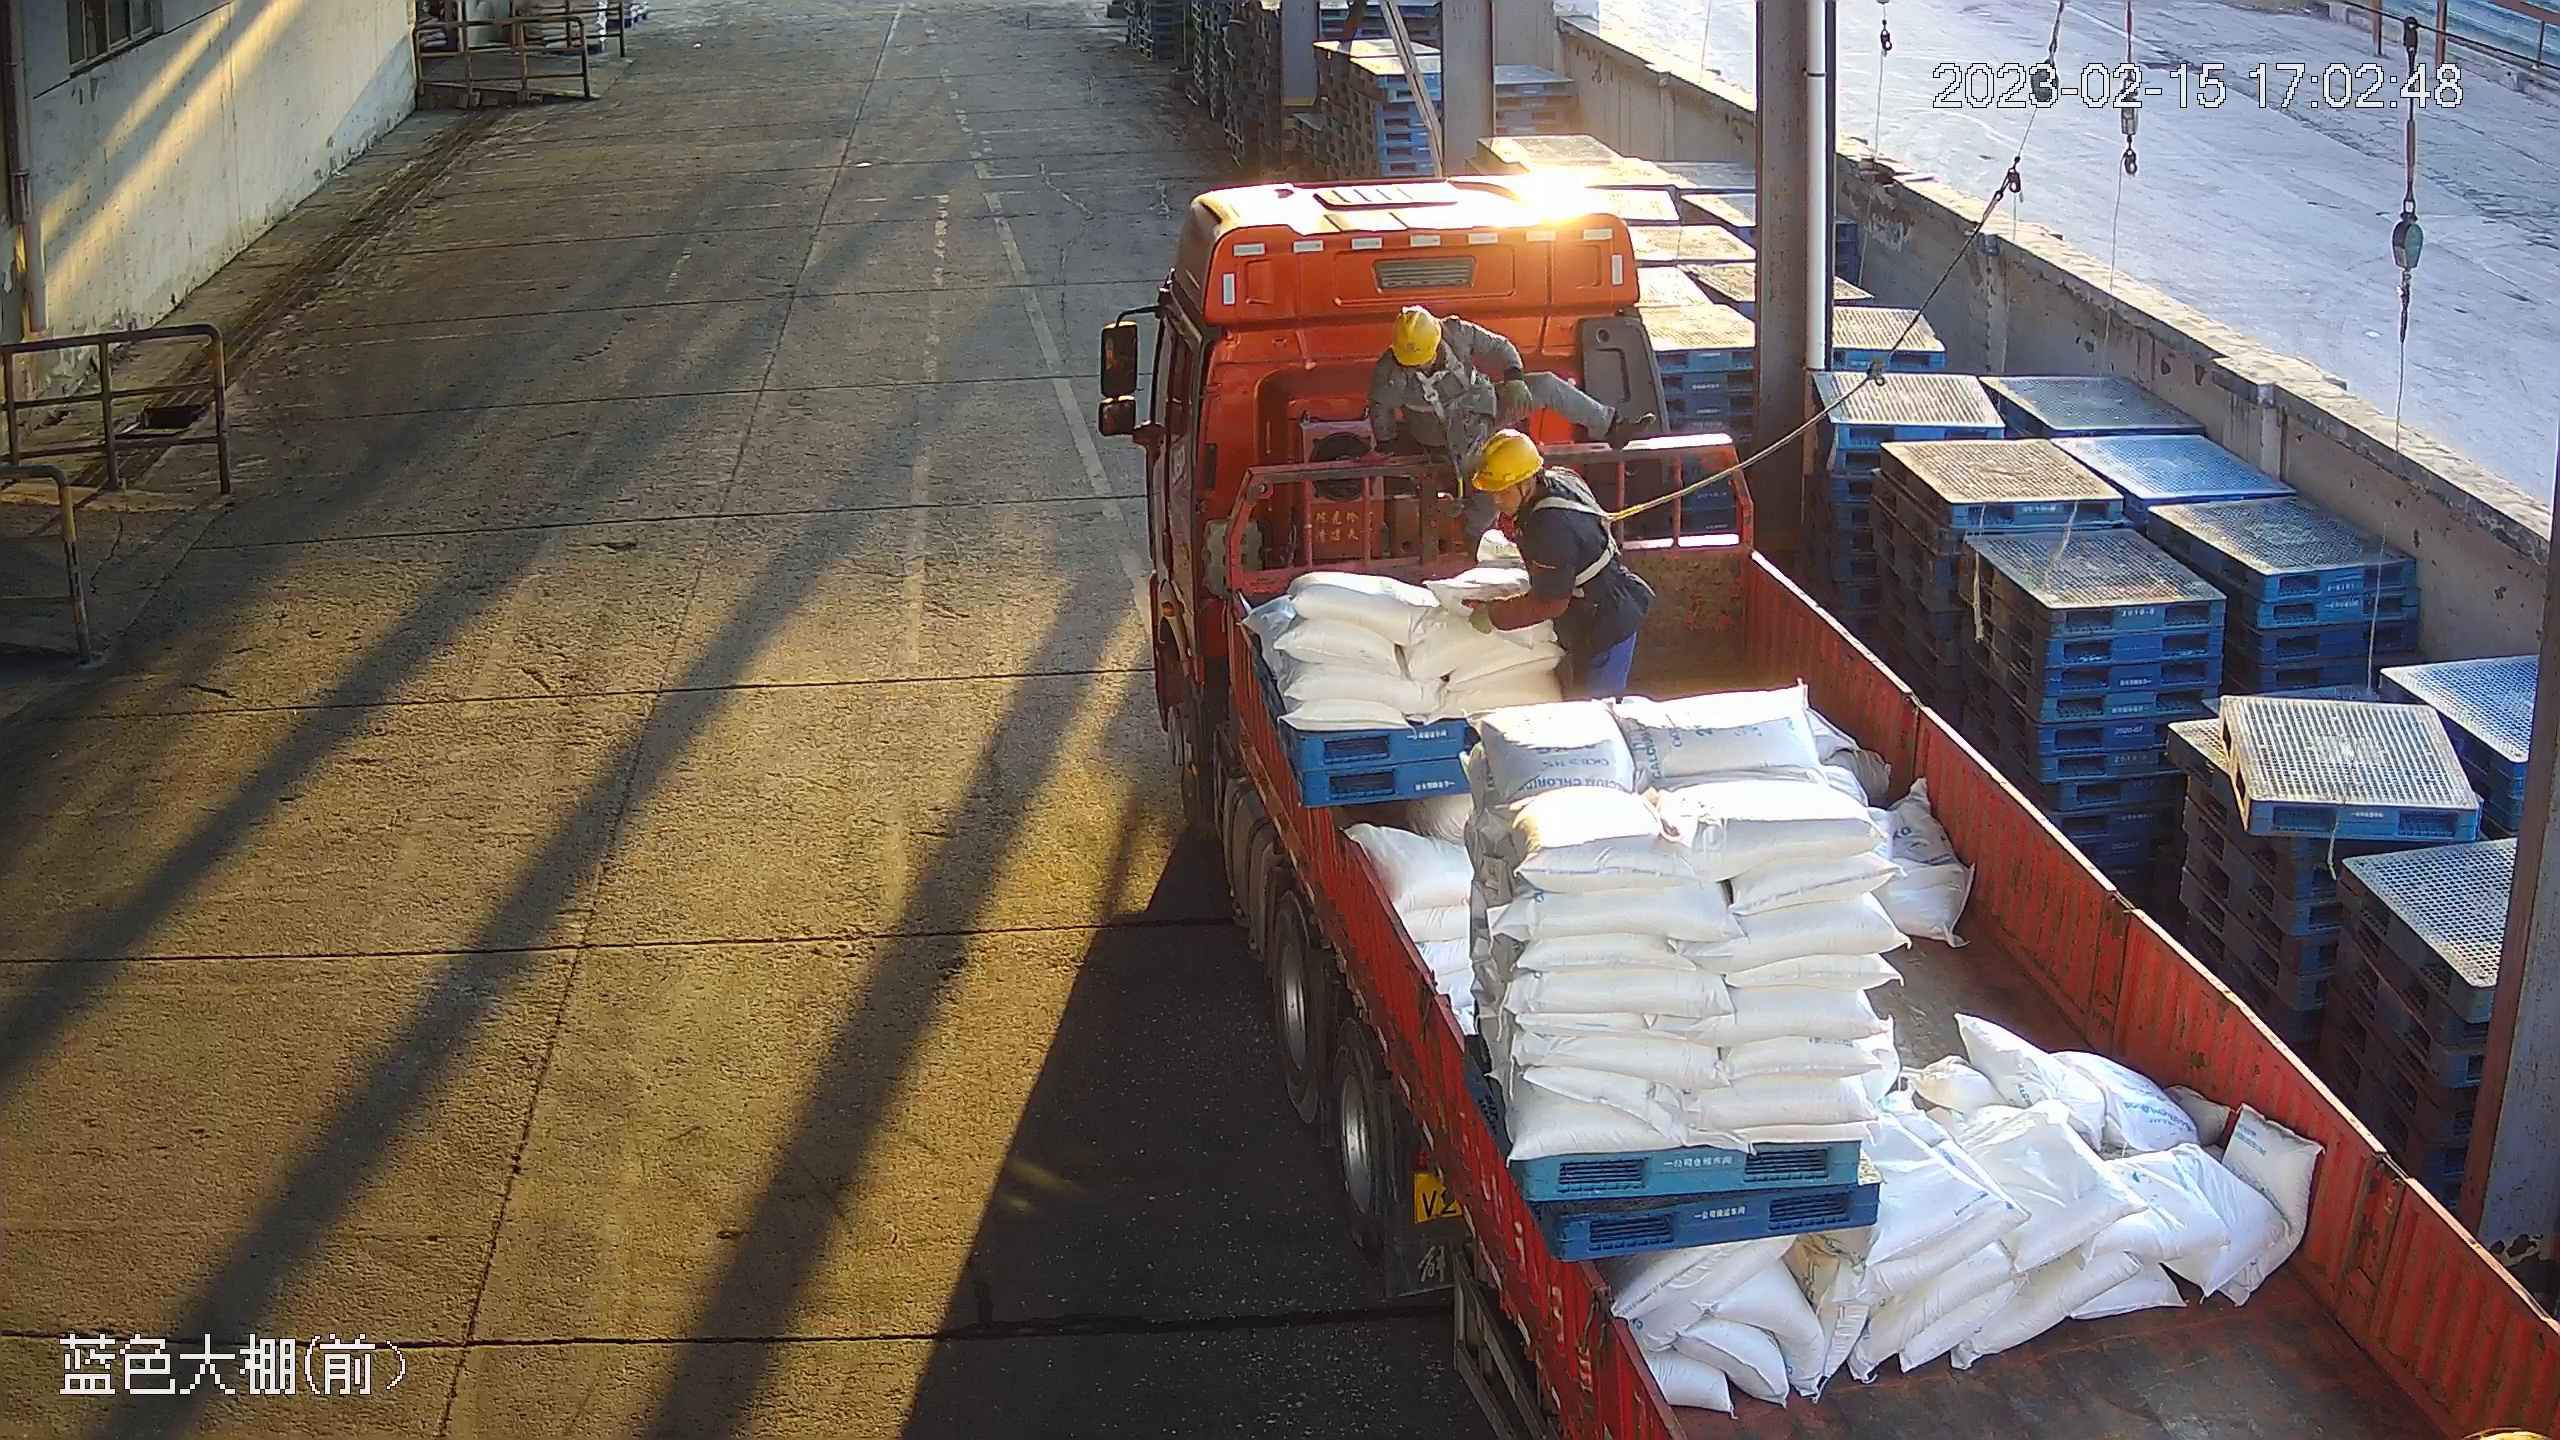belt: (1543, 465, 1623, 583), (1419, 343, 1485, 412)
head: (1466, 432, 1590, 548), (1367, 307, 1499, 394)
helmet: (1471, 426, 1547, 493), (1393, 305, 1439, 362)
people: (1365, 304, 1659, 558), (1463, 428, 1658, 717)
truck: (1090, 168, 2560, 1439)
